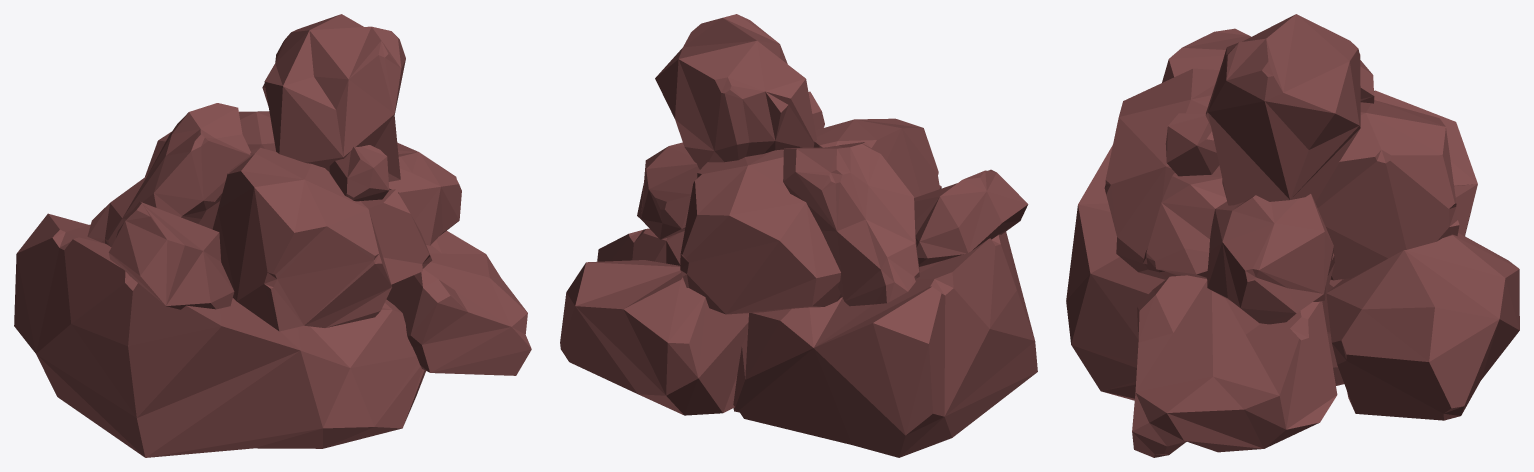
File: Pila Rocas.fbx
The picture shows the model from 3 angles, left to right: view 1: azimuth 30°, elevation 25°; view 2: azimuth 150°, elevation 25°; view 3: azimuth 270°, elevation 25°; orthographic projection. The views are drawn at different scales.
Visible parts, largest first — view 1: RocaGrande1, RocaGrande4, RocaMediana3, RocaGrande2, RocaMediana2, RocaChica3, RocaMediana1, RocaChica2, RocaChica1, RocaGrande3; view 2: RocaGrande1, RocaGrande5, RocaGrande3, RocaMediana3, RocaMediana2, RocaChica3, RocaGrande4, RocaMediana1, RocaGrande2; view 3: RocaGrande2, RocaGrande5, RocaMediana3, RocaGrande3, RocaGrande1, RocaMediana1, RocaGrande4, RocaChica2, RocaChica1, RocaChica3, RocaMediana2.
Part boxes in pixels (box(x1,y1,x2,y2)): RocaGrande1: box(14, 213, 425, 457); RocaGrande4: box(212, 147, 391, 331); RocaMediana3: box(262, 14, 405, 181); RocaGrande2: box(386, 230, 531, 375); RocaMediana2: box(87, 103, 250, 246); RocaChica3: box(108, 201, 234, 309); RocaMediana1: box(389, 142, 461, 245); RocaChica2: box(360, 189, 432, 284); RocaChica1: box(329, 145, 389, 201); RocaGrande3: box(145, 111, 275, 229); RocaGrande1: box(733, 231, 1037, 457); RocaGrande5: box(560, 260, 748, 415); RocaGrande3: box(680, 149, 841, 314); RocaMediana3: box(655, 14, 816, 169); RocaMediana2: box(783, 142, 919, 306); RocaChica3: box(914, 169, 1028, 266); RocaGrande4: box(813, 118, 941, 197); RocaMediana1: box(637, 142, 699, 239); RocaGrande2: box(597, 228, 684, 265); RocaGrande2: box(1132, 275, 1337, 457); RocaGrande5: box(1326, 232, 1519, 420); RocaMediana3: box(1205, 14, 1360, 205); RocaGrande3: box(1312, 100, 1459, 280); RocaGrande1: box(1066, 90, 1477, 400); RocaMediana1: box(1207, 194, 1334, 324); RocaGrande4: box(1104, 68, 1221, 279); RocaChica2: box(1143, 173, 1226, 278); RocaChica1: box(1165, 113, 1219, 176); RocaChica3: box(1162, 28, 1250, 82); RocaMediana2: box(1360, 60, 1374, 103).
Bounding box in the file's own units: 3.39 × 2.85 × 2.92.
